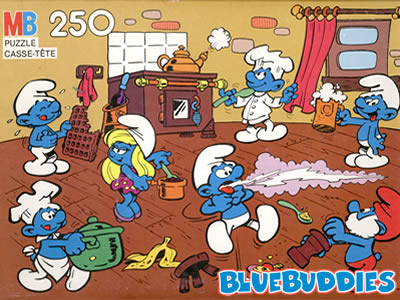smurf: (190, 143, 279, 254), (7, 178, 91, 291), (98, 114, 158, 222), (328, 184, 398, 272), (233, 44, 294, 143), (344, 67, 398, 169), (11, 79, 68, 175)
